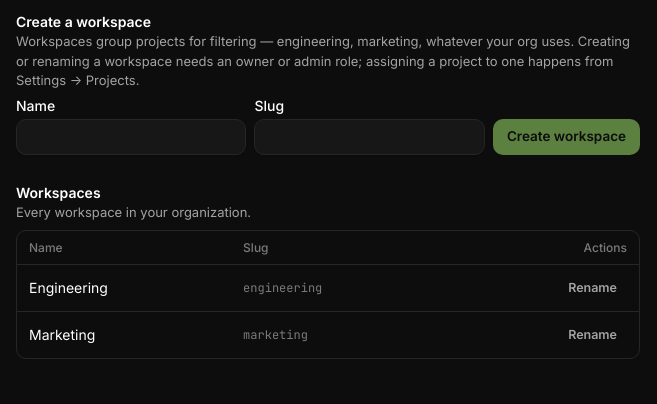
Scenario: creating a team › a non-admin gets the server 403 verbatim, inline, and the form keeps its values
Type "Design" into the field labelled "Name". click: (131, 136)
box: [16, 118, 246, 154]
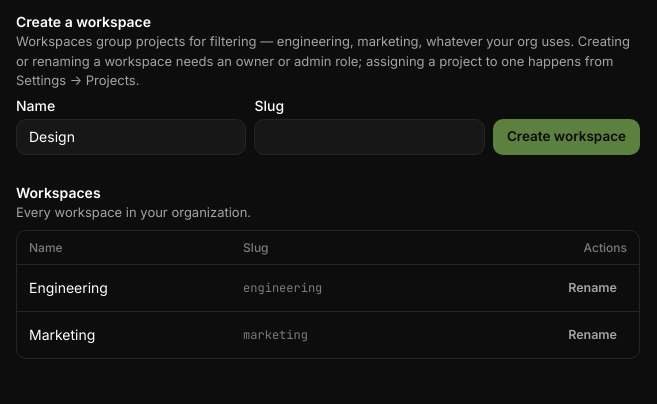
Type "design" into the field labelled "Slug". click: (370, 136)
box: [254, 118, 485, 154]
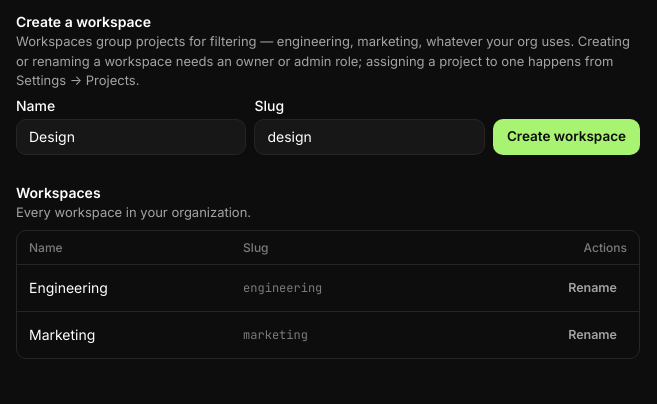
Click the button "Create workspace". click: (566, 136)
box: [493, 118, 640, 154]
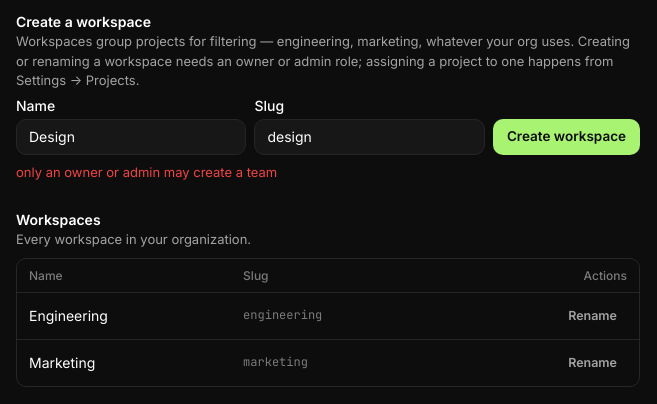
Result: the message "only an owner or admin may create a team" is shown at [16, 164, 277, 180]
